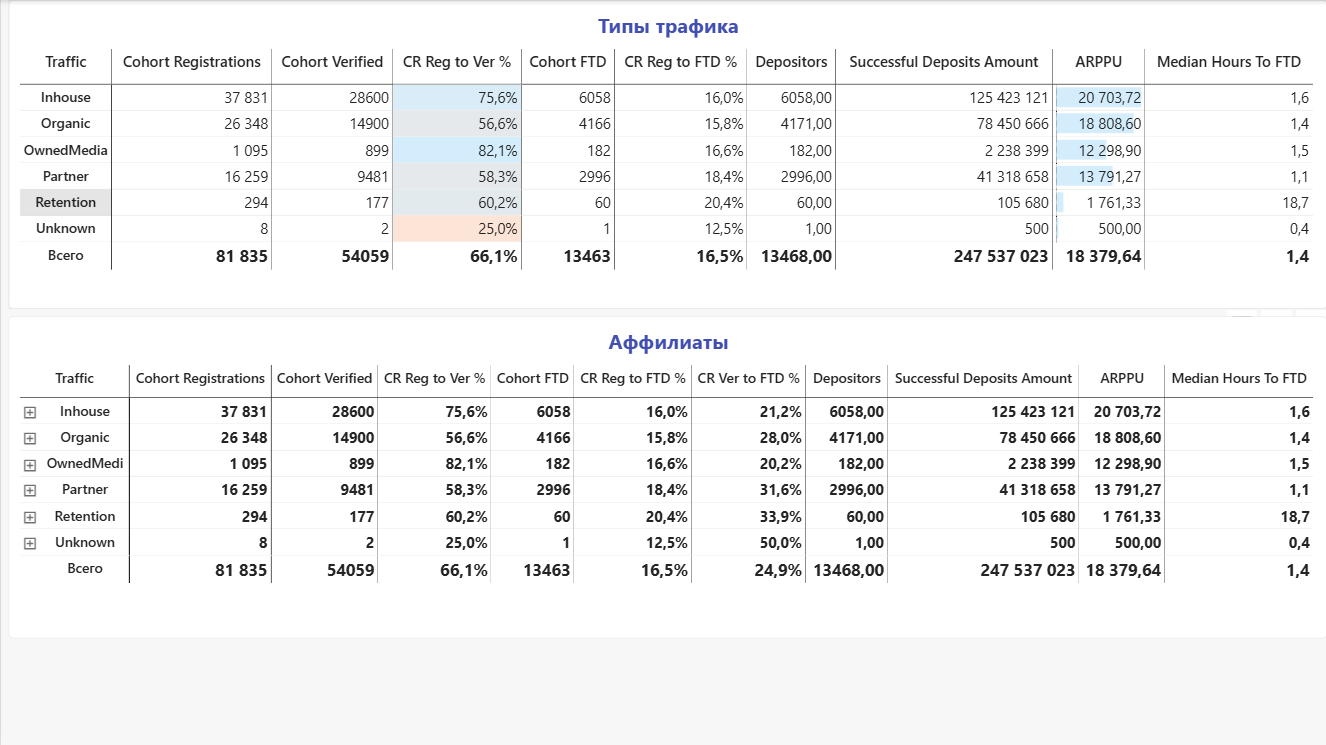

What the dashboard file says about the page in this screenshot:
{"tool":"powerbi","page":{"name":"Типы трафика и аффилиаты","canvas":[1920,1080],"ordinal":1},"visuals":[{"type":"pivotTable","title":"Типы трафика","fields":{"Rows":["Dim_Affiliate.Traffic"],"Values":["_Measures.Cohort Registrations","_Measures.Cohort Verified","_Measures.CR Reg to Ver %","_Measures.Cohort FTD","_Measures.CR Reg to FTD %","_Measures.Depositors","_Measures.Successful Deposits Amount","_Measures.ARPPU","_Measures.Median Hours To FTD"]},"box":[10.5,0,1909.5,447.4],"z":0},{"type":"pivotTable","title":"Аффилиаты","fields":{"Rows":["Dim_Affiliate.Traffic","Dim_Affiliate.AffiliateId"],"Values":["_Measures.Cohort Registrations","_Measures.Cohort Verified","_Measures.CR Reg to Ver %","_Measures.Cohort FTD","_Measures.CR Reg to FTD %","_Measures.CR Ver to FTD %","_Measures.Depositors","_Measures.Successful Deposits Amount","_Measures.ARPPU","_Measures.Median Hours To FTD"]},"box":[10.5,457.9,1909.5,466.3],"z":1000}]}

Visuals, with their boxes in screenshot pixels (x1, y1, x2, y2), scaled from the page's 1920x1080 canvas onto the 1326x745 screenshot:
"Типы трафика" pivotTable: detection(7, 0, 1325, 309)
"Аффилиаты" pivotTable: detection(7, 316, 1325, 638)
